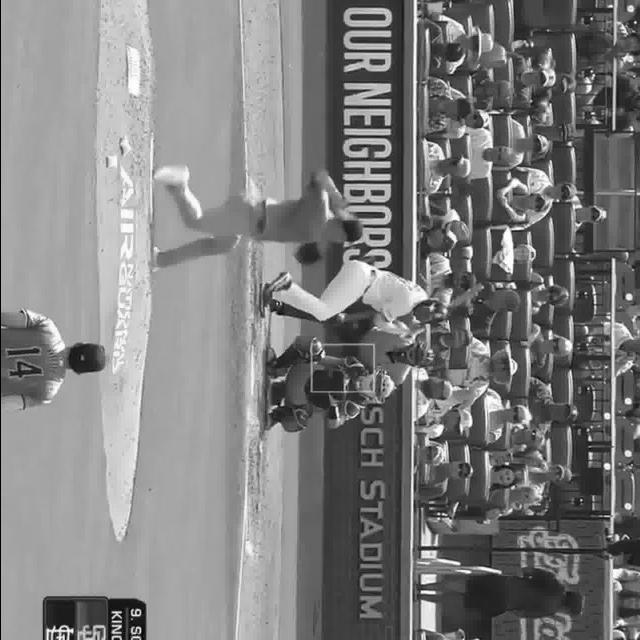base: (248, 346, 258, 398)
baseball_glove: (325, 368, 347, 402), (294, 239, 322, 265)
bat: (451, 280, 487, 314)
shoe: (148, 164, 189, 187), (259, 274, 289, 296), (253, 286, 270, 321), (266, 350, 280, 378), (148, 246, 160, 272), (264, 405, 276, 431)
